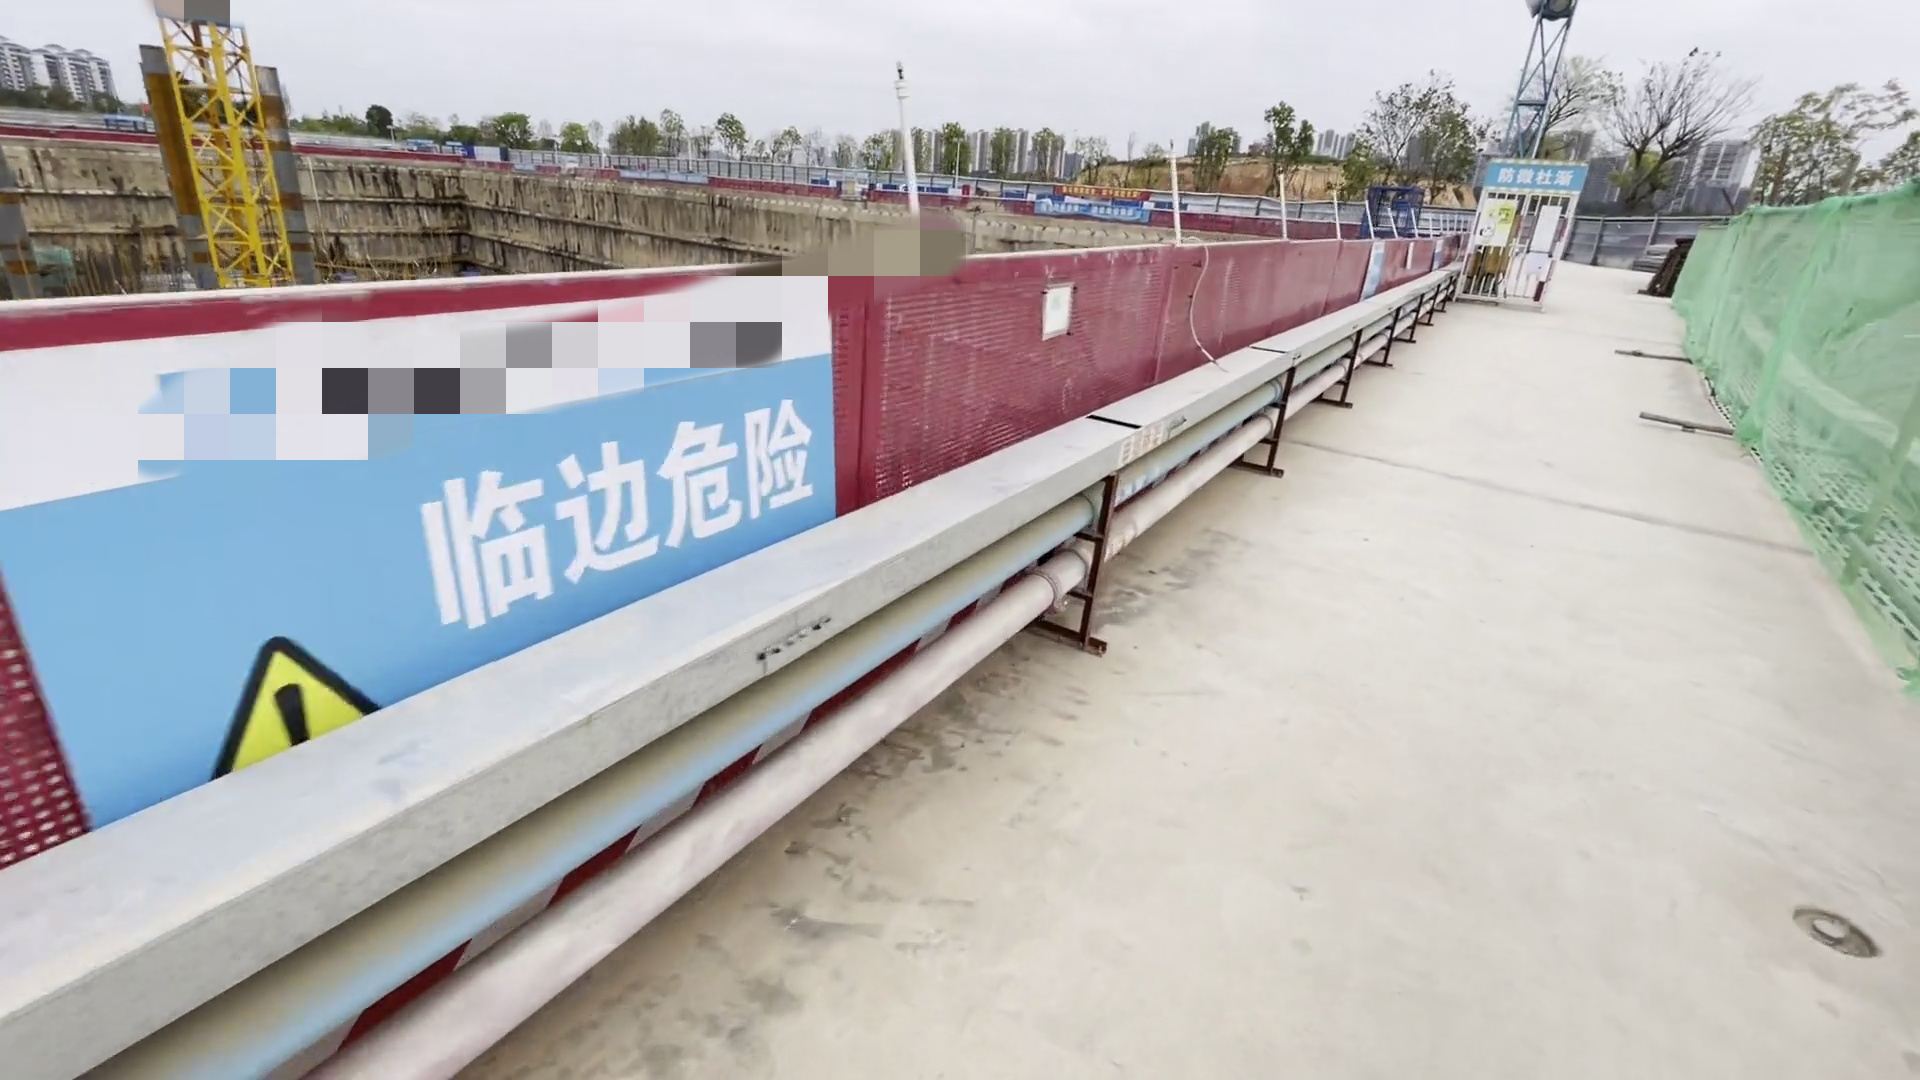fence: (1, 244, 1435, 895)
slogan: (429, 426, 839, 525), (1046, 179, 1155, 227), (1485, 152, 1592, 198)
